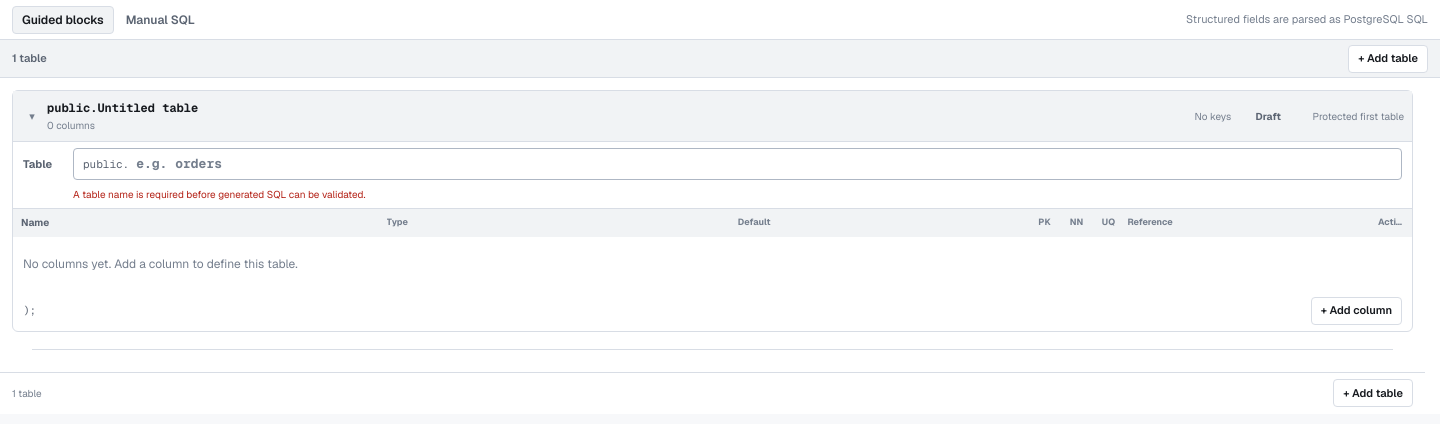
Test: guided editor › searches aliases, serializes canonical types, and gates type-specific controls
Step 1. Click the button "+ Add column" → (1356, 310), box [1311, 296, 1402, 324]
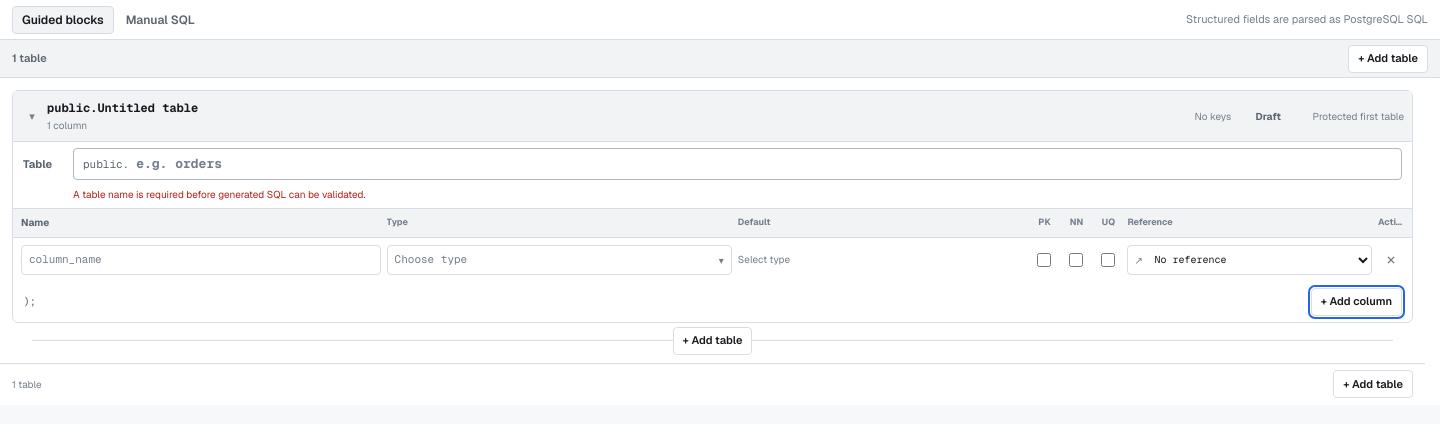
Step 2. Type "varchar" into the dropdown named "Column 1 type" → (559, 260), box [387, 244, 732, 274]
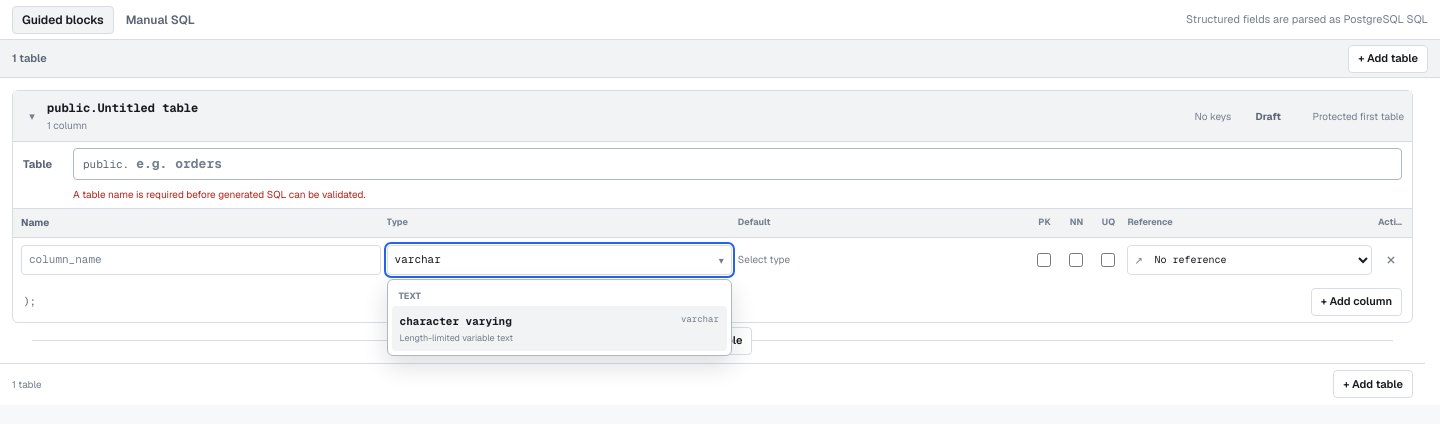
Step 3. Click the option "character varying varchar Length-limited variable text" → (456, 321), box [392, 306, 727, 351]
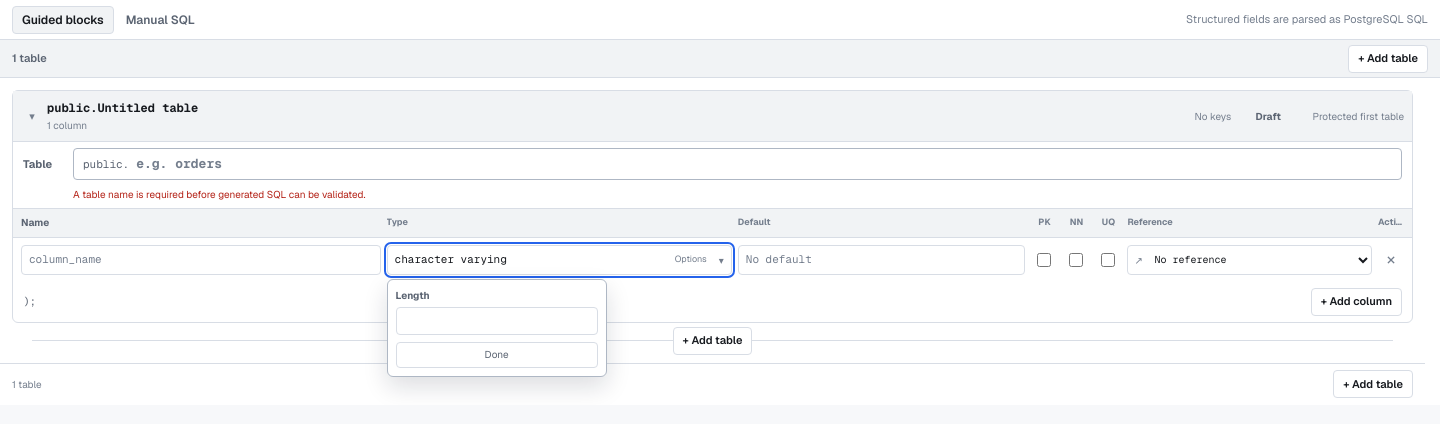
Now the dropdown named "Column 1 type" holds "character varying", box [387, 244, 732, 274]
Now the number field named "Column 1 type length" is shown, box [396, 306, 598, 334]
Now the field named "Column 1 default expression" is shown, box [738, 244, 1026, 274]
